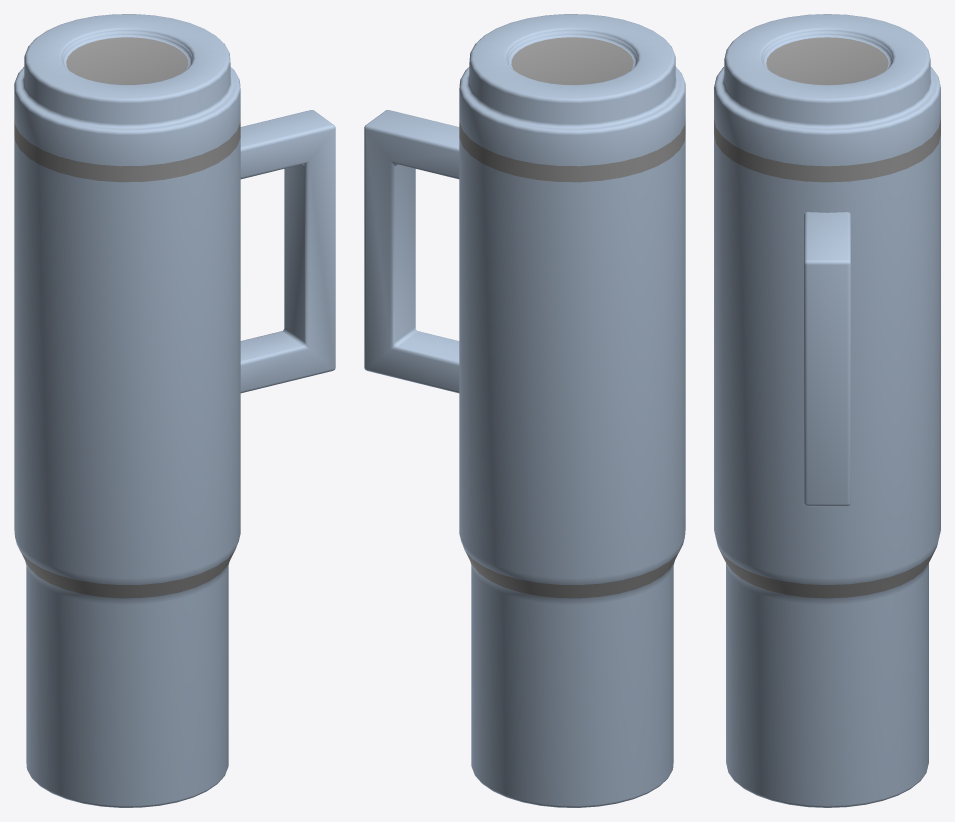
Rendered from Tumblr.fbx.
The picture shows the model from 3 angles, left to right: view 1: azimuth 30°, elevation 25°; view 2: azimuth 150°, elevation 25°; view 3: azimuth 270°, elevation 25°; orthographic projection.
Visible parts, largest first — view 1: Tumblr; view 2: Tumblr; view 3: Tumblr.
Part boxes in pixels (box(x1,y1,x2,y2)): Tumblr: box(14, 14, 335, 807); Tumblr: box(364, 14, 685, 807); Tumblr: box(714, 14, 940, 807).
Bounding box in the file's own units: 0.1349 × 0.309 × 0.0895.
